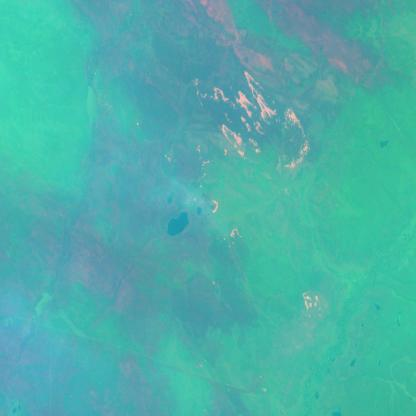fire: (186, 68, 315, 176), (202, 194, 243, 247), (298, 288, 326, 319)
